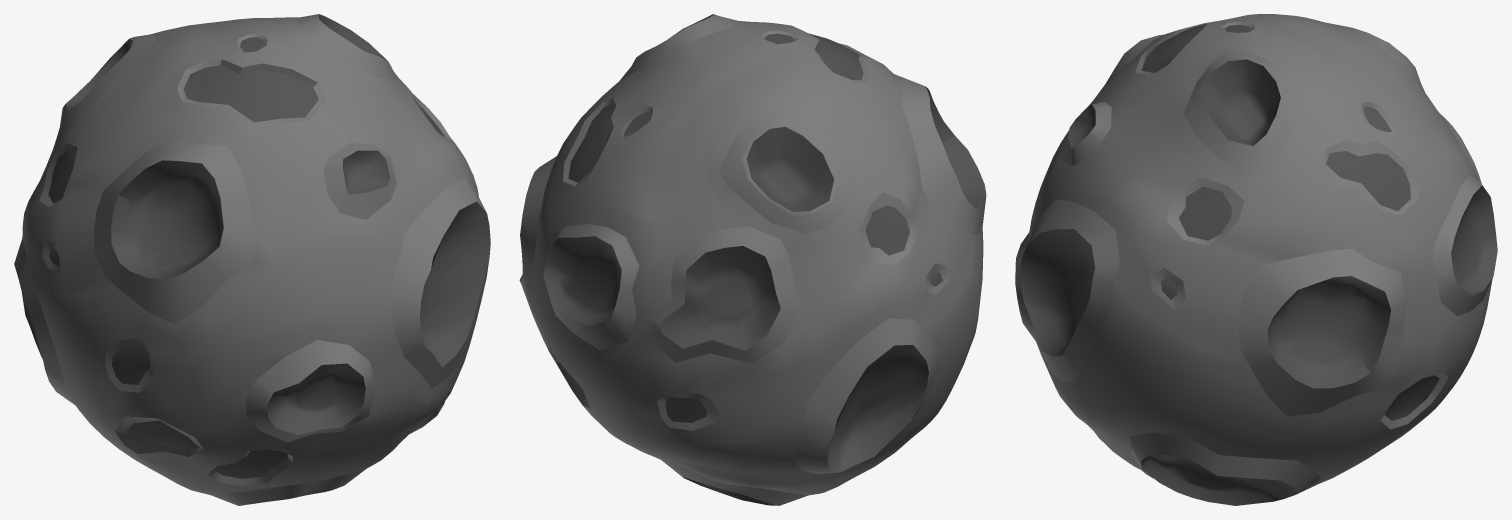
Rendered from Asteroid.fbx.
3 views of the same model, side by side, from view 1: azimuth 30°, elevation 25°; view 2: azimuth 150°, elevation 25°; view 3: azimuth 270°, elevation 25° (orthographic).
Visible parts, largest first — view 1: Asteroid; view 2: Asteroid; view 3: Asteroid.
Boxes of the visible parts, bbox=[...] form: Asteroid: bbox=[14, 14, 490, 505]; Asteroid: bbox=[519, 14, 986, 505]; Asteroid: bbox=[1015, 14, 1497, 505].
Bounding box in the file's own units: 94.77 × 100 × 97.02.
Materials: 1 (1 with a texture image).
